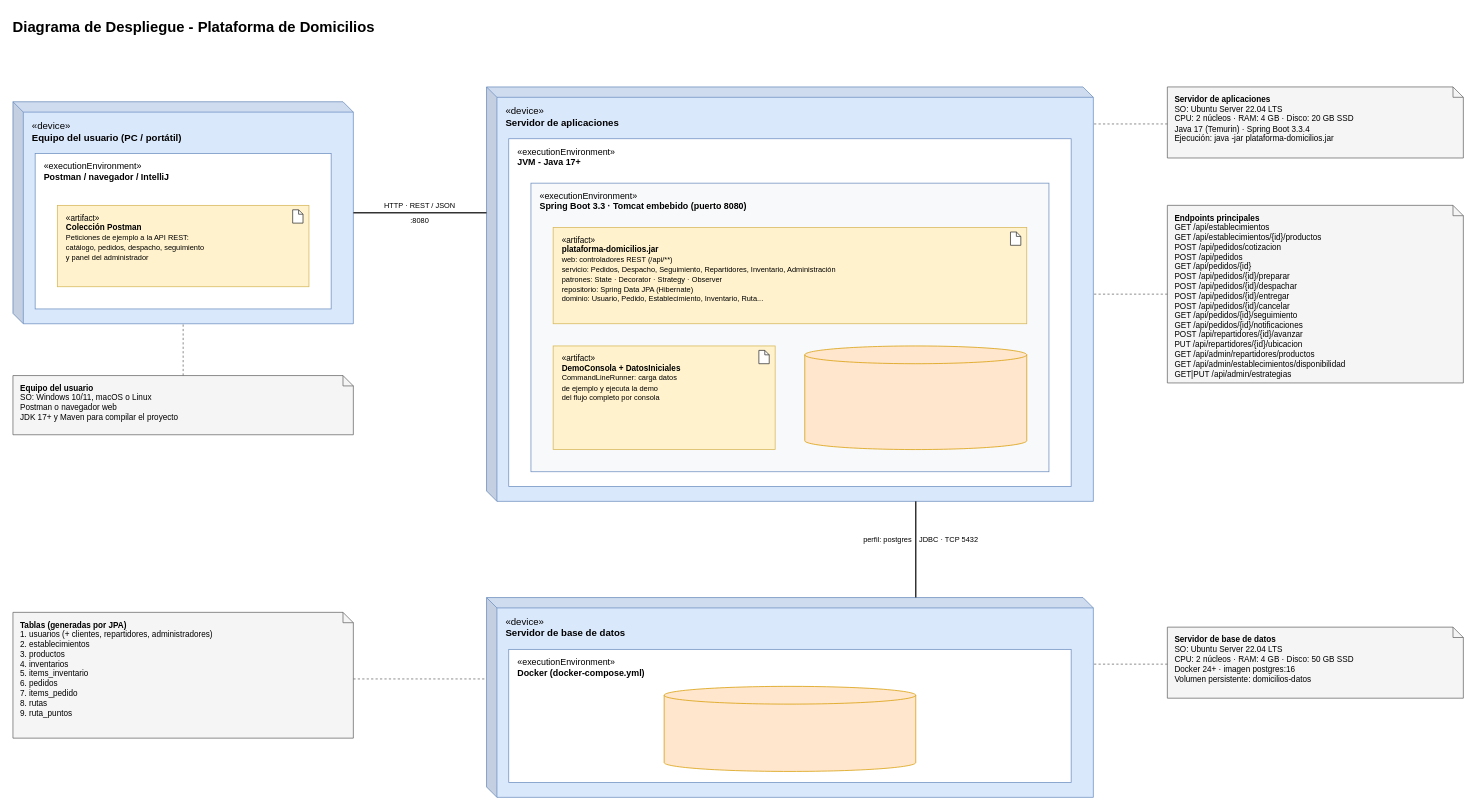
The diagram is 1476 pixels wide and 810 high, and some of its shapes have lost their labels. Each missing label, with the centre of its shape:
"H2 en memoria perfil por defecto (demo) jdbc:h2:mem:domicilios" goes at pixel 915 397.
"PostgreSQL 16 base de datos: domicilios_db usuario: domicilios" goes at pixel 789 728.
